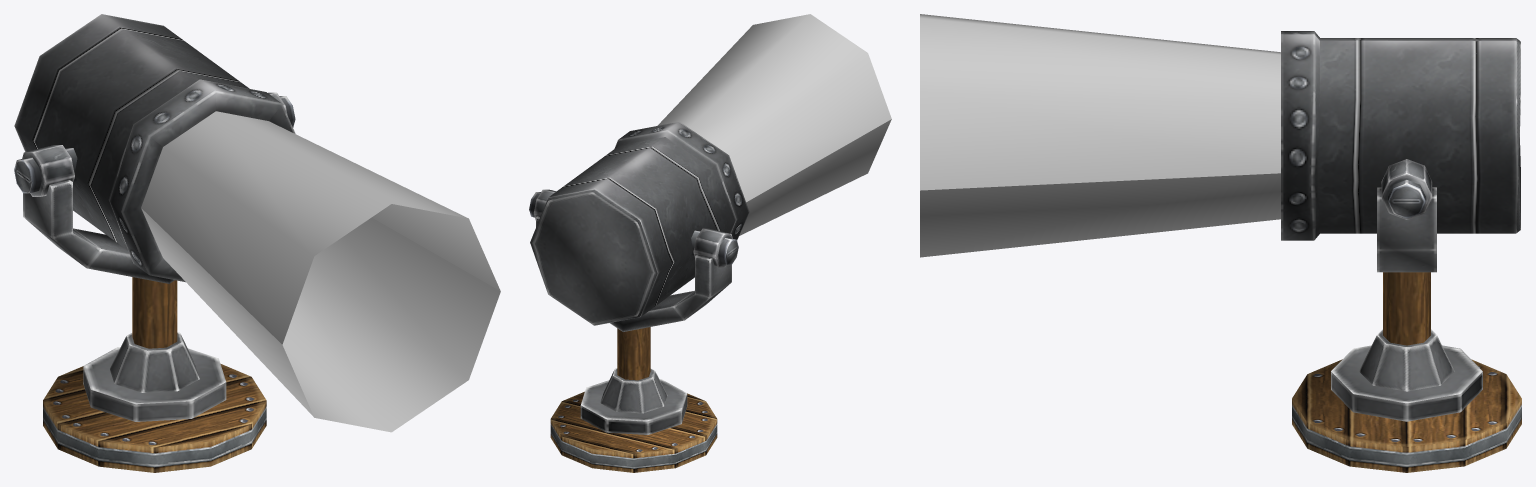
The model's file is Projector_L1.FBX.
3 renders of one model, left to right at view 1: azimuth 30°, elevation 25°; view 2: azimuth 150°, elevation 25°; view 3: azimuth 270°, elevation 25°, orthographic. The views are drawn at different scales.
Visible parts, largest first — view 1: LightShaft, Projector_Projector_L1, Projector_Hub_L1, Projector_Base_L1; view 2: Projector_Projector_L1, LightShaft, Projector_Hub_L1, Projector_Base_L1; view 3: LightShaft, Projector_Projector_L1, Projector_Hub_L1, Projector_Base_L1.
Part boxes in pixels (<box>): LightShaft: <box>141,111,500,432</box>; Projector_Projector_L1: <box>14,14,295,282</box>; Projector_Hub_L1: <box>22,92,287,421</box>; Projector_Base_L1: <box>43,364,266,472</box>; Projector_Projector_L1: <box>529,121,749,325</box>; LightShaft: <box>657,14,891,235</box>; Projector_Hub_L1: <box>533,189,732,434</box>; Projector_Base_L1: <box>550,391,717,472</box>; LightShaft: <box>920,14,1280,257</box>; Projector_Projector_L1: <box>1281,31,1520,240</box>; Projector_Hub_L1: <box>1331,159,1482,421</box>; Projector_Base_L1: <box>1292,359,1521,472</box>.
Size of the model in its own units: 2.55 by 4.91 by 3.66.
